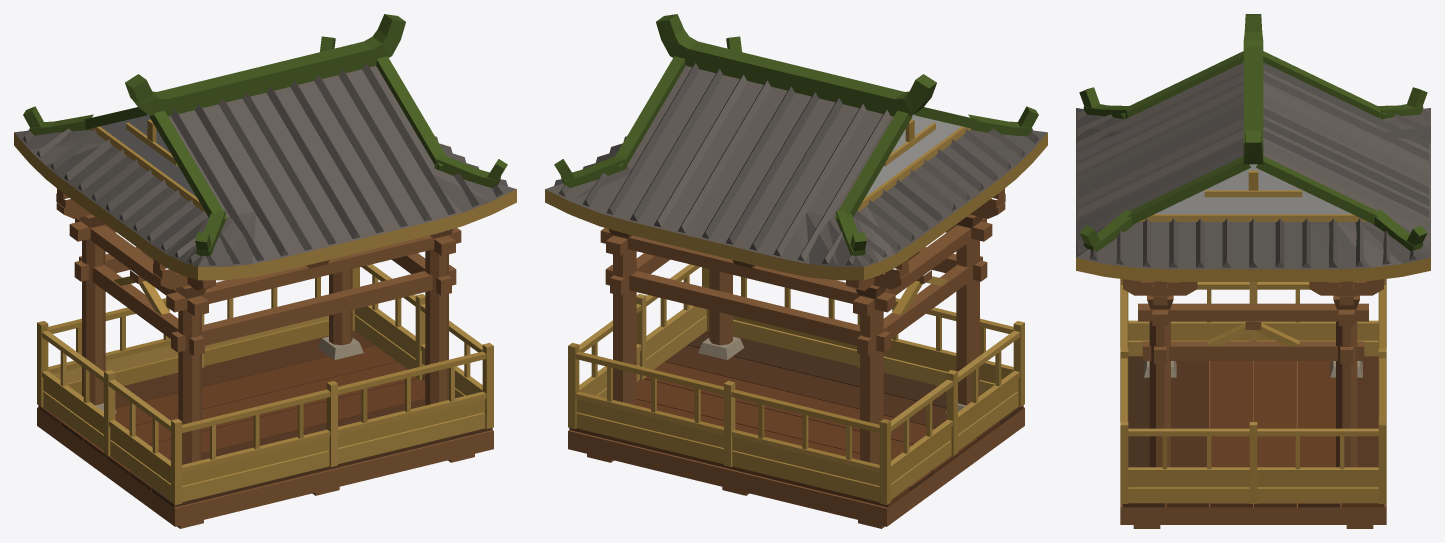
The model's file is wall-watchtower-721547.glb.
3 views of the same model, side by side, from view 1: azimuth 30°, elevation 25°; view 2: azimuth 150°, elevation 25°; view 3: azimuth 270°, elevation 25° (orthographic). The views are drawn at different scales.
Size of the model in its own units: 4 by 4.8 by 4.
